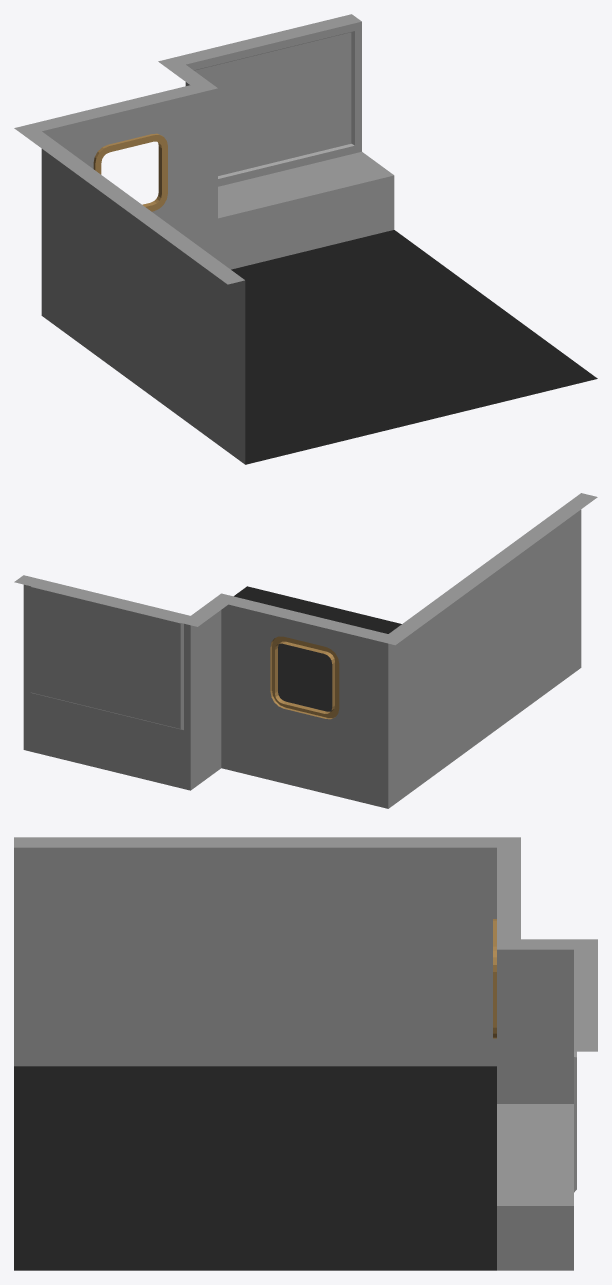
The model's file is concept.glb.
The picture shows the model from 3 angles, top to bottom: view 1: azimuth 30°, elevation 25°; view 2: azimuth 150°, elevation 25°; view 3: azimuth 270°, elevation 25°; orthographic projection. The views are drawn at different scales.
Parts seen in each view (by area): view 1: room_main; view 2: room_main; view 3: room_main.
Boxes of the visible parts, <box> form: room_main: <box>14,14,597,464</box>; room_main: <box>14,493,597,808</box>; room_main: <box>14,837,597,1270</box>.
Size of the model in its own units: 4.2 by 2 by 4.84.
